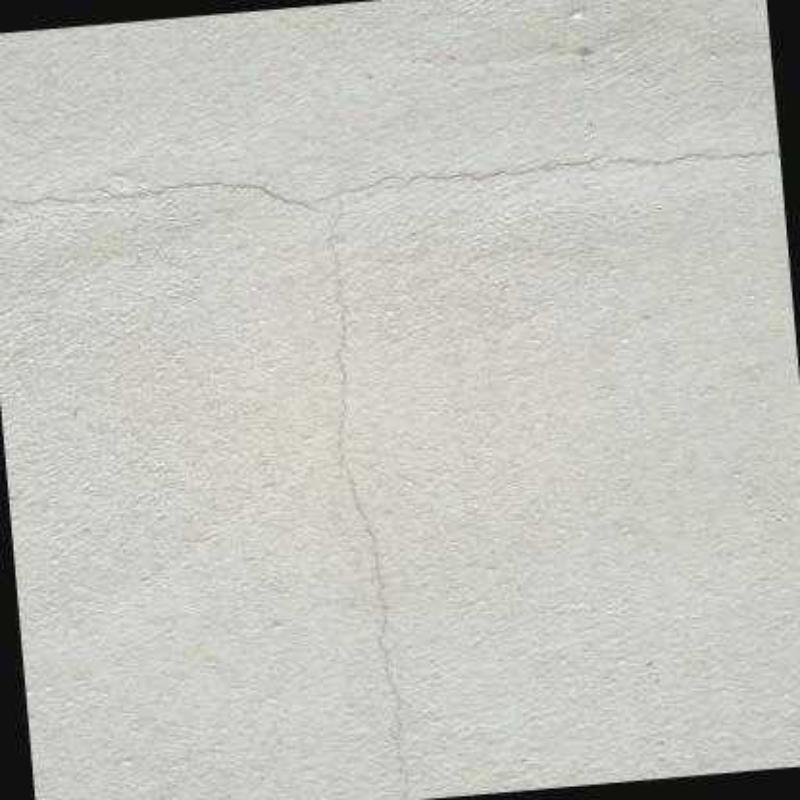pothole: (0, 145, 778, 798)
